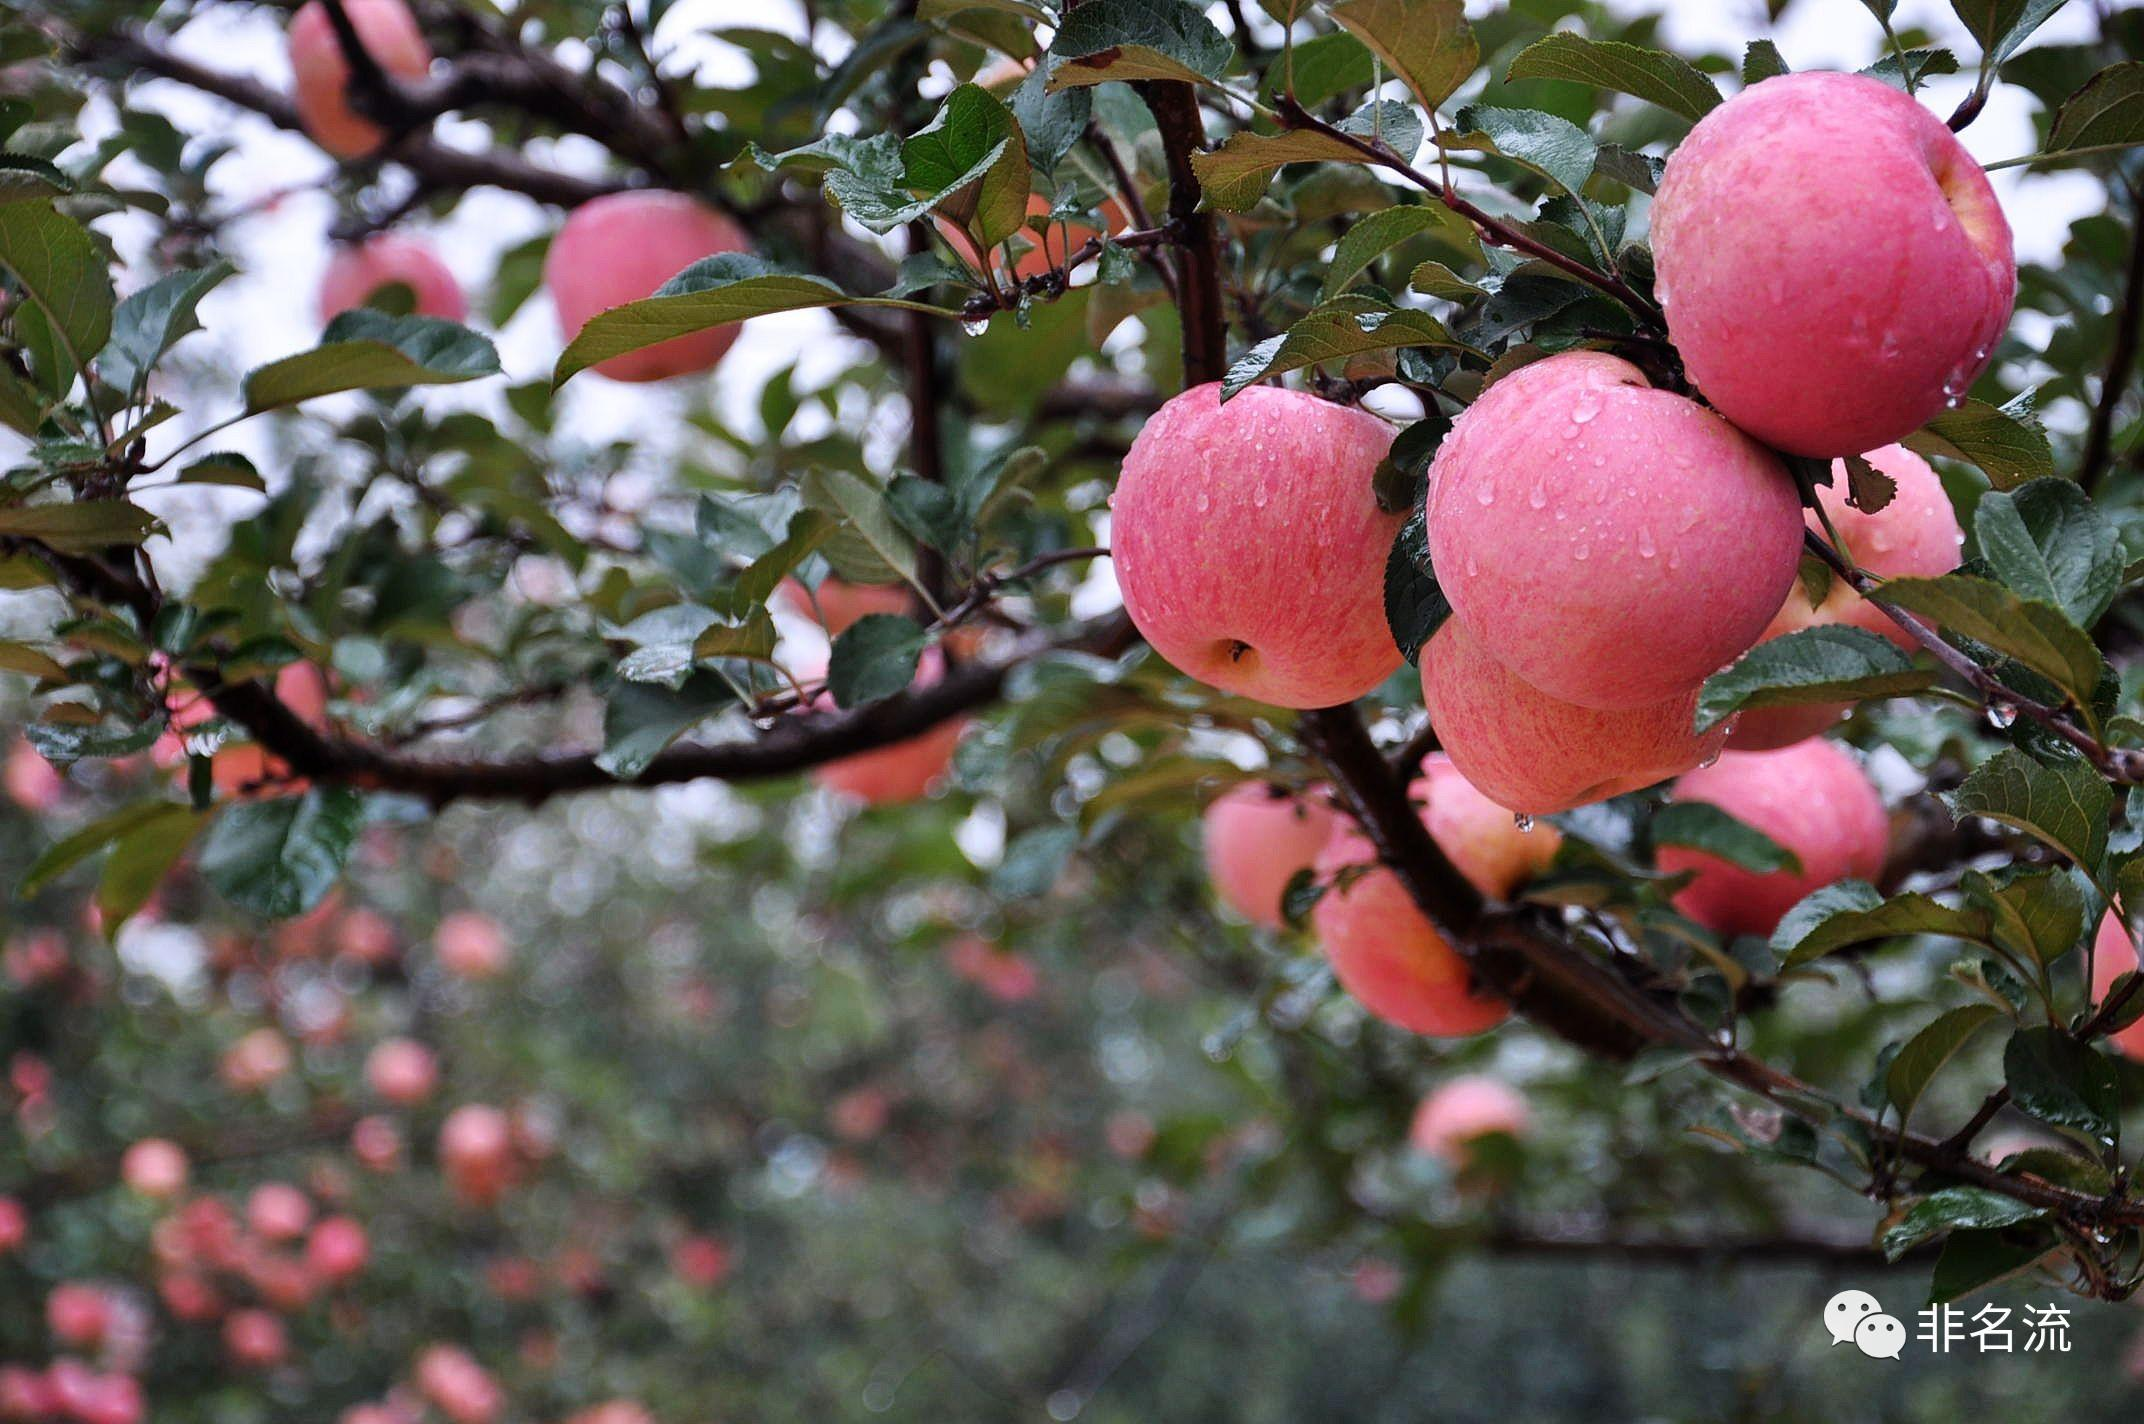apple: (1648, 73, 2012, 466), (1419, 351, 1791, 704), (1108, 369, 1407, 714), (547, 200, 752, 388)
